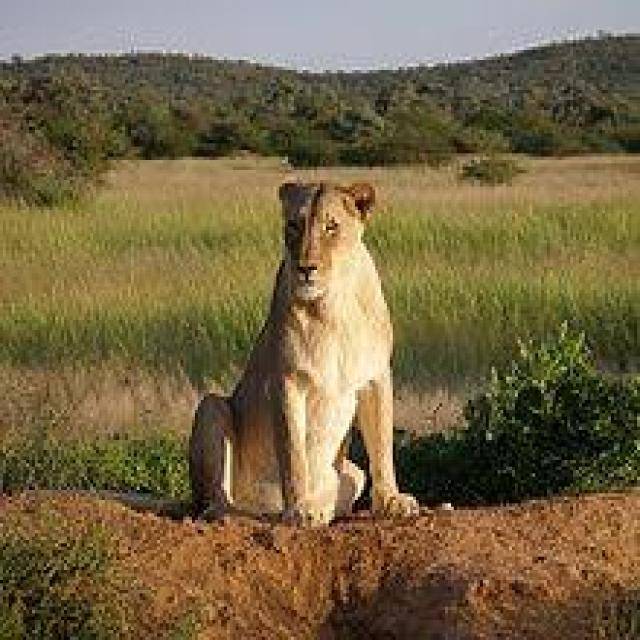Lion: (193, 174, 422, 533)
